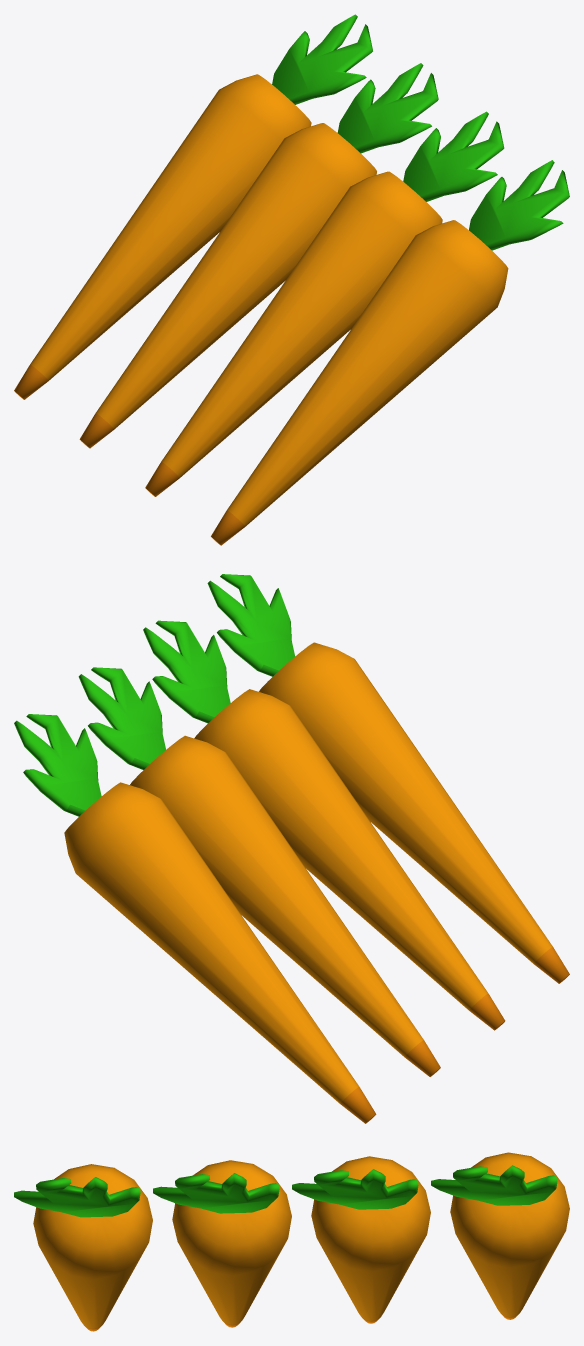
The model's file is food-skewer-1.glb.
The picture shows the model from 3 angles, top to bottom: view 1: azimuth 30°, elevation 25°; view 2: azimuth 150°, elevation 25°; view 3: azimuth 270°, elevation 25°; orthographic projection. The views are drawn at different scales.
Visible parts, largest first — view 1: Object_51; view 2: Object_51; view 3: Object_51.
Part boxes in pixels (bbox=[...]): Object_51: bbox=[14, 14, 569, 545]; Object_51: bbox=[14, 574, 569, 1123]; Object_51: bbox=[14, 1152, 569, 1331].
Bounding box in the file's own units: 0.3386 × 0.2877 × 0.4266.
Materials: 1 (1 with a texture image).
